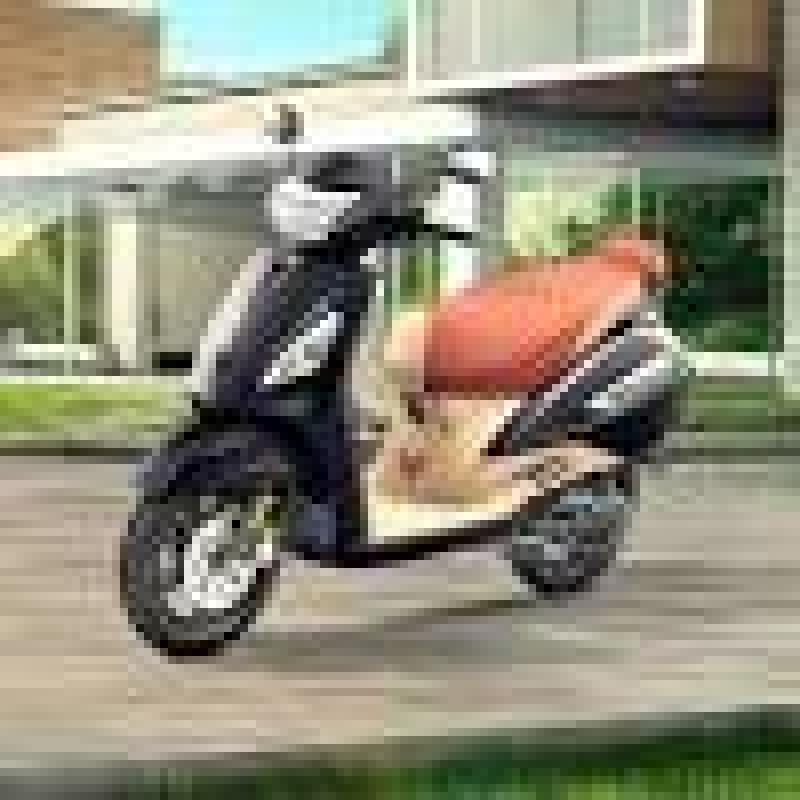bike: (91, 88, 690, 654)
